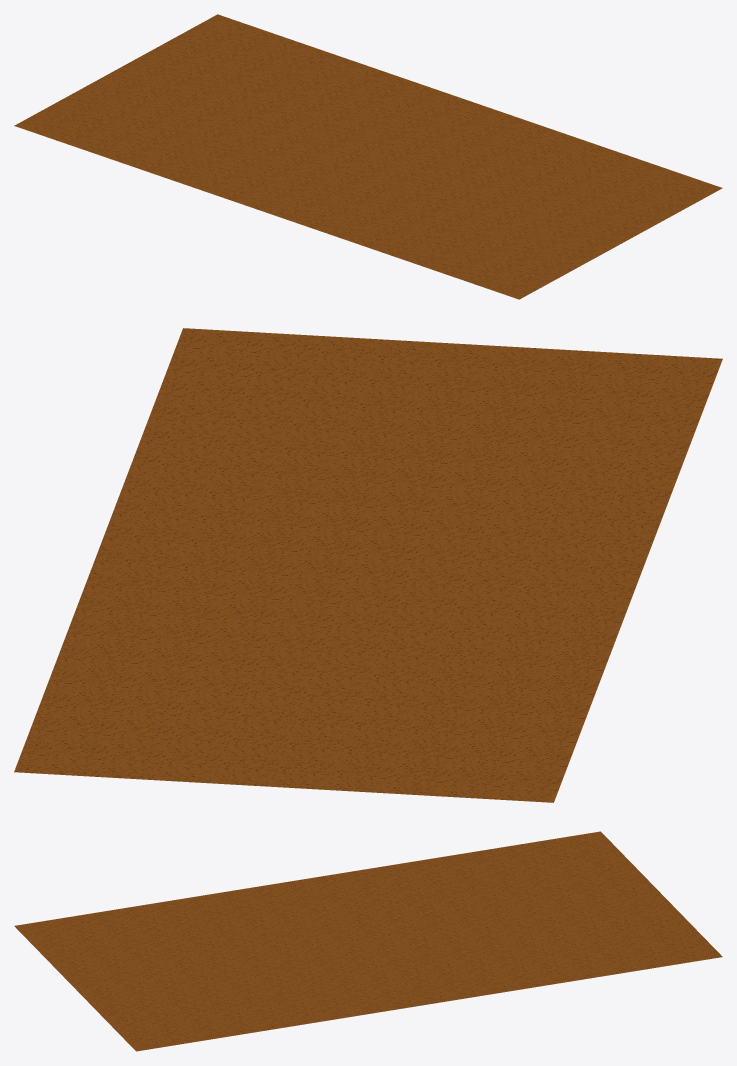
Rendered from event2_char1_v1.glb.
The picture shows the model from 3 angles, top to bottom: view 1: azimuth 30°, elevation 25°; view 2: azimuth 150°, elevation 25°; view 3: azimuth 270°, elevation 25°; orthographic projection. The views are drawn at different scales.
Visible parts, largest first — view 1: ground; view 2: ground; view 3: ground.
Boxes of the visible parts, bbox=[...] form: ground: bbox=[14, 14, 722, 299]; ground: bbox=[14, 328, 722, 802]; ground: bbox=[14, 831, 722, 1051].
Bounding box in the file's own units: 552 × 0 × 751.
Materials: 1 (1 with a texture image).
